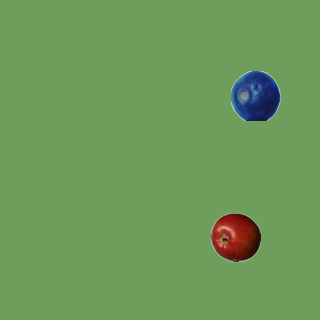Apple Braeburn: (210, 212, 260, 262)
Huckleberry: (230, 70, 280, 120)
